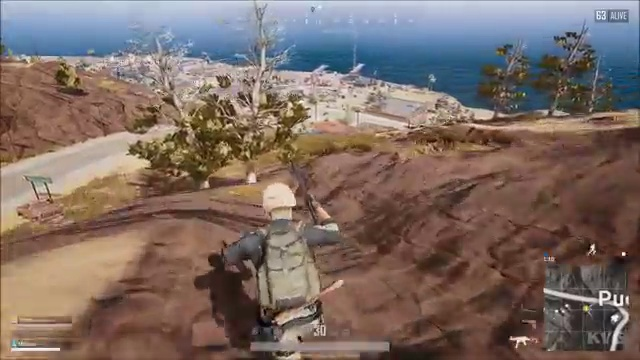Player: (221, 159, 366, 318)
